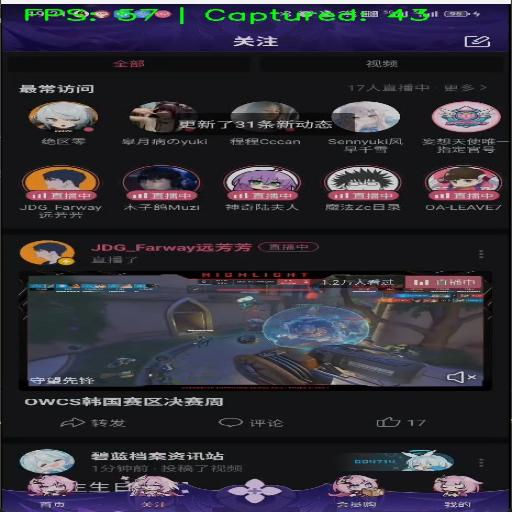butten: (428, 96, 508, 159), (19, 96, 109, 150), (316, 470, 397, 510), (412, 470, 488, 510), (113, 474, 194, 507), (11, 472, 82, 509)
